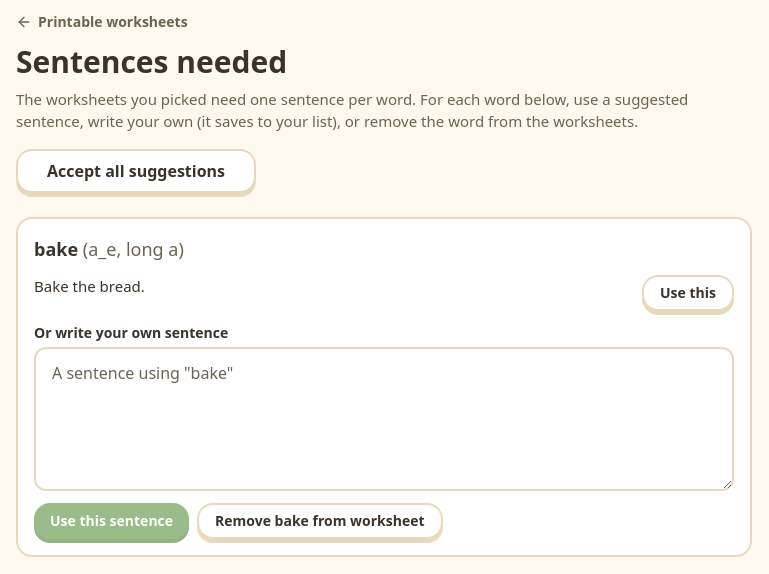
Test: WorksheetsPrintPage › sentence gap flow › disables accept-all while a sentence save is in flight
Expected: the text "Bake the bread." is shown, [34,274,145,297]
Click the button "Use this" at (688,292), box [642,274,734,310]
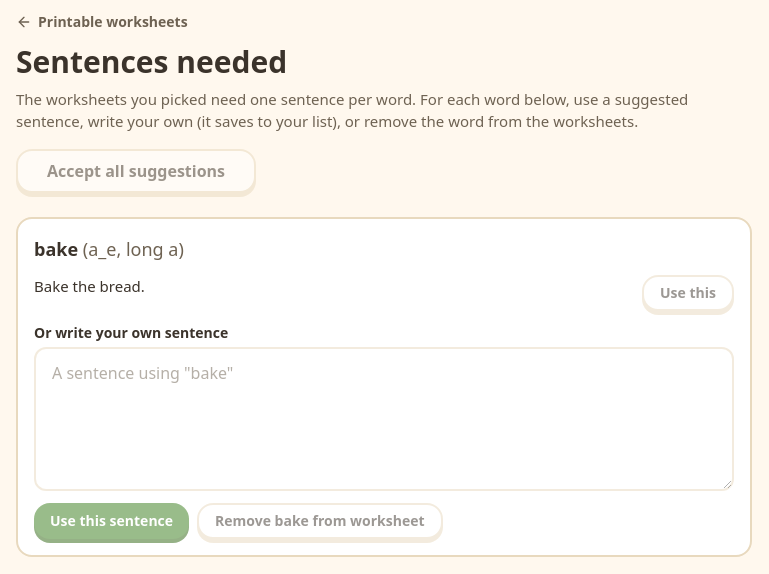
Expected: the button "Accept all suggestions" is disabled, [16,148,256,192]
